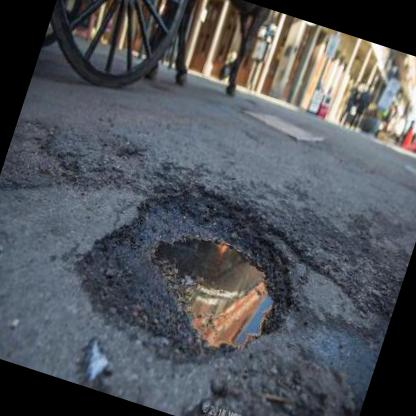pothole: (52, 150, 322, 390)
